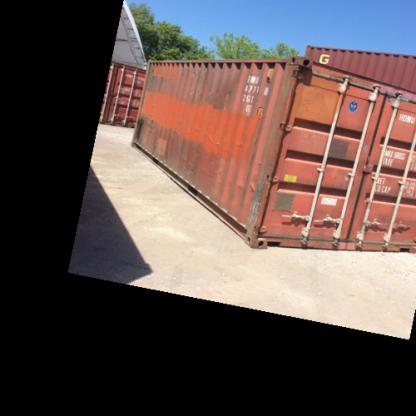Damage: (234, 169, 270, 225), (210, 154, 228, 204), (131, 112, 155, 144), (198, 82, 240, 100), (180, 63, 216, 81), (178, 148, 199, 178), (144, 69, 174, 83), (199, 131, 226, 146), (231, 132, 245, 150)
